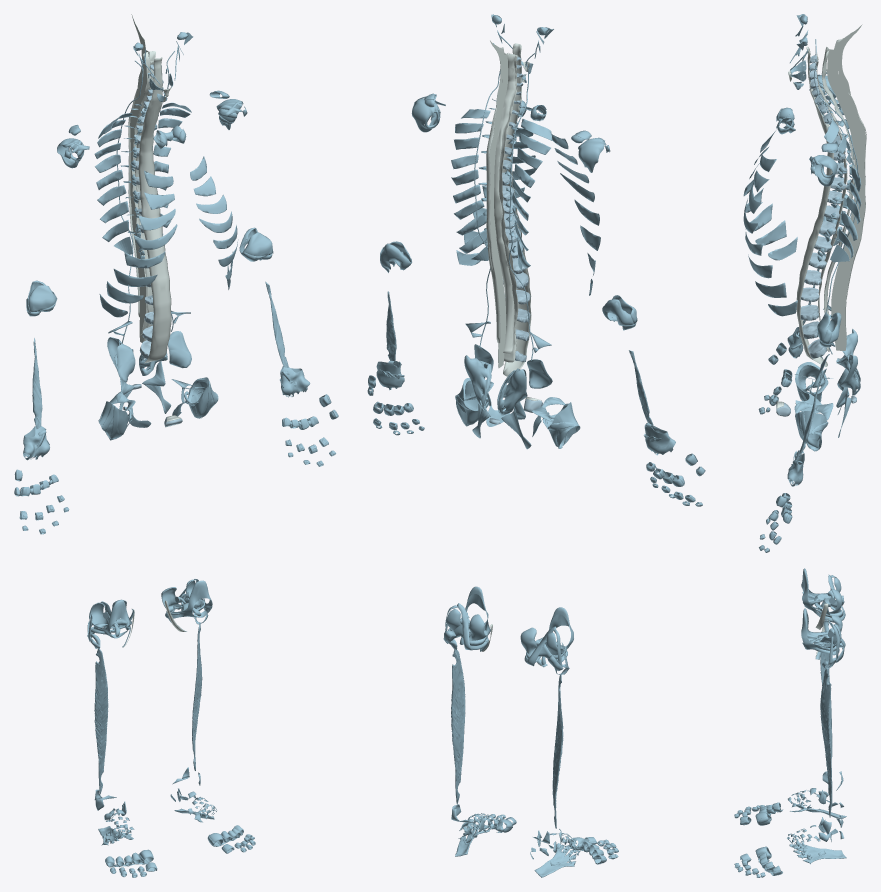
The model's file is articulacoes.glb.
The picture shows the model from 3 angles, left to right: view 1: azimuth 30°, elevation 25°; view 2: azimuth 150°, elevation 25°; view 3: azimuth 270°, elevation 25°; orthographic projection. The views are drawn at different scales.
Visible parts, largest first — view 1: Anterior longitudinal ligament, External intercostal membrane.r, Internal intercostal membrane.r, External intercostal membrane.l, Interosseous membrane of leg.r, Interspinous ligaments, Articular capsule of knee joint.l, Internal intercostal membrane.l, Articular capsule of knee joint.r, Articular capsule of elbow joint.l, Interosseous membrane of leg.l, Articular capsule of elbow joint.r (+2 smaller); view 2: Internal intercostal membrane.l, Ligamenta flava, Interspinous ligaments, Internal intercostal membrane.r, Interosseous membrane of leg.l, Anterior longitudinal ligament, External intercostal membrane.r, Posterior longitudinal ligament, Articular capsule of knee joint.l, Supraspinous ligament, Articular capsule of knee joint.r, Posterior sacro-iliac ligament.r (+4 smaller); view 3: Interspinous ligaments, External intercostal membrane.l, Internal intercostal membrane.l, Anterior longitudinal ligament, External intercostal membrane.r, Interosseous membrane of leg.l, Articular capsule of knee joint.l, Articular capsule of knee joint.r, Ligamenta flava, Posterior longitudinal ligament, Long plantar ligament.l, Articular capsule of elbow joint.l (+15 smaller).
Part boxes in pixels (x1,y1,x2,y2): Anterior longitudinal ligament: (138,57,171,363); External intercostal membrane.r: (99,170,177,317); Internal intercostal membrane.r: (94,113,132,254); External intercostal membrane.l: (190,156,238,289); Interosseous membrane of leg.r: (94,648,108,794); Interspinous ligaments: (130,50,149,342); Articular capsule of knee joint.l: (161,579,212,618); Internal intercostal membrane.l: (153,102,191,235); Articular capsule of knee joint.r: (90,599,131,638); Articular capsule of elbow joint.l: (239,227,272,261); Interosseous membrane of leg.l: (192,622,202,770); Articular capsule of elbow joint.r: (28,280,56,311); Internal intercostal membrane.l: (451,109,490,260); Ligamenta flava: (494,53,515,353); Interspinous ligaments: (488,53,508,368); Internal intercostal membrane.r: (512,119,552,271); Interosseous membrane of leg.l: (451,649,465,804); Anterior longitudinal ligament: (502,43,531,376); External intercostal membrane.r: (551,134,600,295); Posterior longitudinal ligament: (499,53,518,362); Articular capsule of knee joint.l: (446,586,490,649); Supraspinous ligament: (486,108,500,343); Articular capsule of knee joint.r: (520,607,573,662); Posterior sacro-iliac ligament.r: (497,368,527,415); Interspinous ligaments: (826,49,865,350); External intercostal membrane.l: (743,154,797,316); Internal intercostal membrane.l: (824,116,861,262); Anterior longitudinal ligament: (796,46,833,366); External intercostal membrane.r: (743,131,797,260); Interosseous membrane of leg.l: (820,668,832,817); Articular capsule of knee joint.l: (801,608,842,655); Articular capsule of knee joint.r: (801,568,844,622); Ligamenta flava: (822,47,854,320); Posterior longitudinal ligament: (816,53,847,351); Long plantar ligament.l: (789,843,846,864); Articular capsule of elbow joint.l: (817,312,841,343).
Bounding box in the file's own units: 0.6615 × 1.58 × 0.2308.
